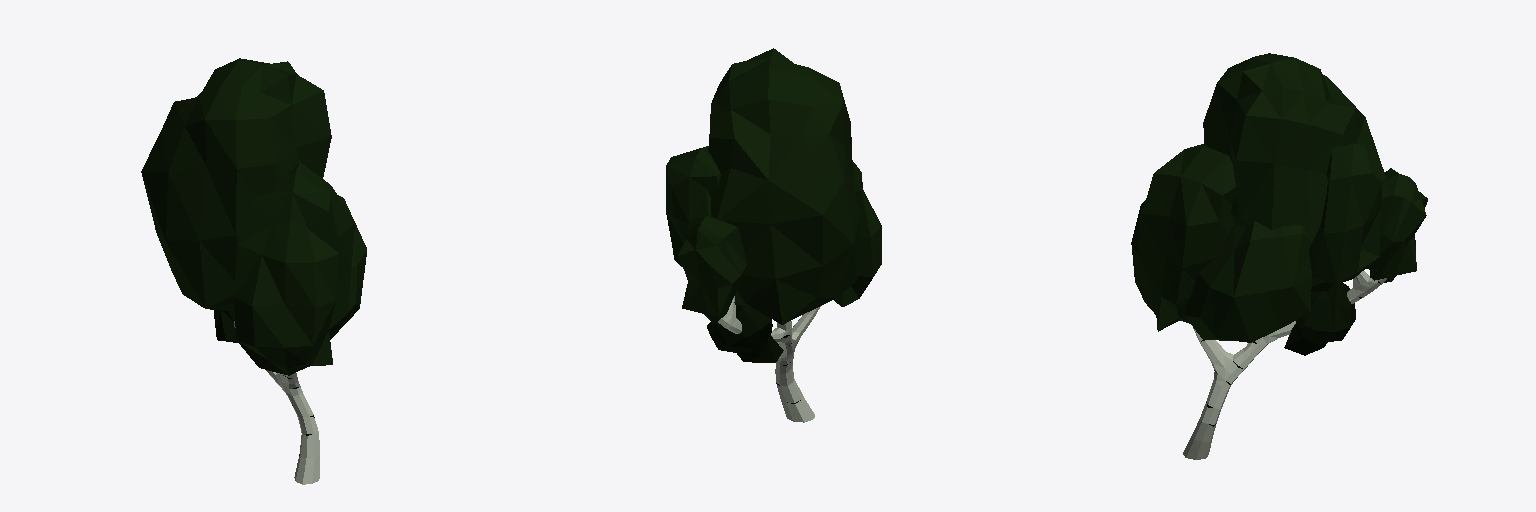
The model's file is BirchTree_1.obj.
3 views of the same model, side by side, from view 1: azimuth 30°, elevation 25°; view 2: azimuth 150°, elevation 25°; view 3: azimuth 270°, elevation 25° (orthographic).
Parts seen in each view (by area): view 1: BirchTree_1; view 2: BirchTree_1; view 3: BirchTree_1.
Boxes of the visible parts, x1,y1,x2,y2 form: BirchTree_1: [141, 58, 366, 484]; BirchTree_1: [666, 48, 881, 422]; BirchTree_1: [1131, 53, 1427, 459].
Size of the model in its own units: 1.7 by 3.57 by 2.48.